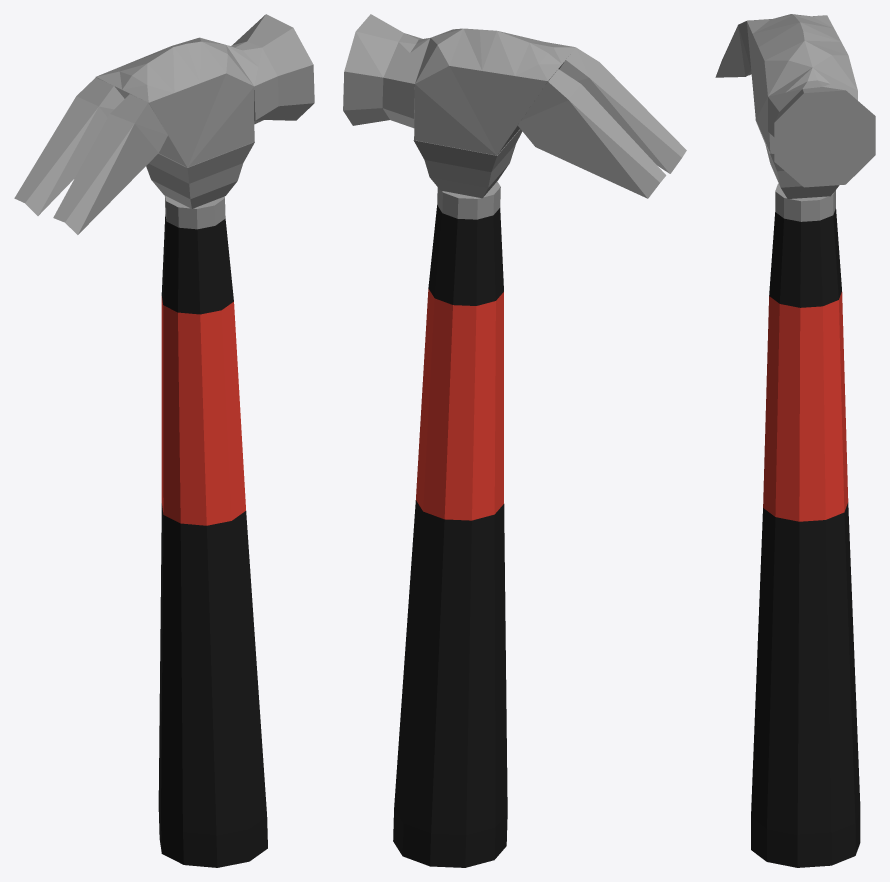
File: construction.glb
The picture shows the model from 3 angles, left to right: view 1: azimuth 30°, elevation 25°; view 2: azimuth 150°, elevation 25°; view 3: azimuth 270°, elevation 25°; orthographic projection. The views are drawn at different scales.
Visible parts, largest first — view 1: group776676643; view 2: group776676643; view 3: group776676643.
Part boxes in pixels (x1,y1,x2,y2): group776676643: (14, 14, 314, 867); group776676643: (343, 14, 686, 867); group776676643: (715, 14, 875, 867).
Size of the model in its own units: 0.2677 by 0.7189 by 0.1298.
